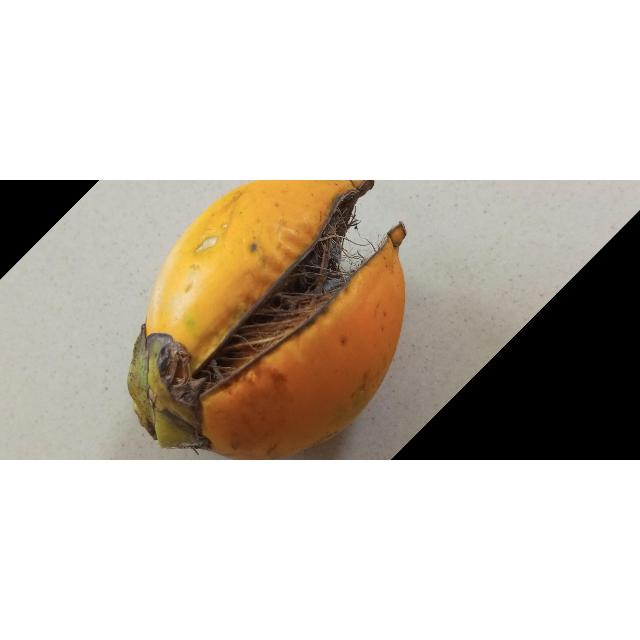damaged: (127, 180, 407, 461)
